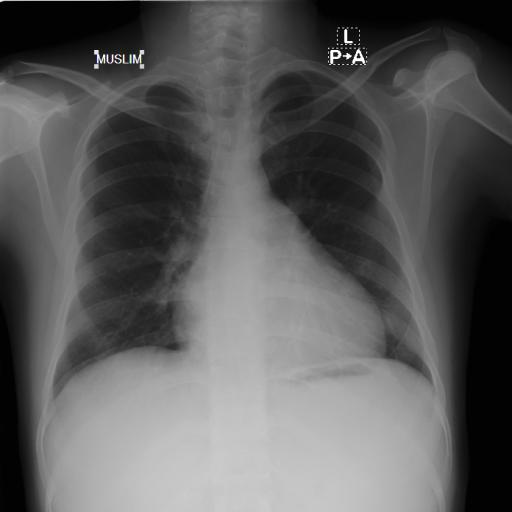kardiomegali: (36, 59, 448, 397)
